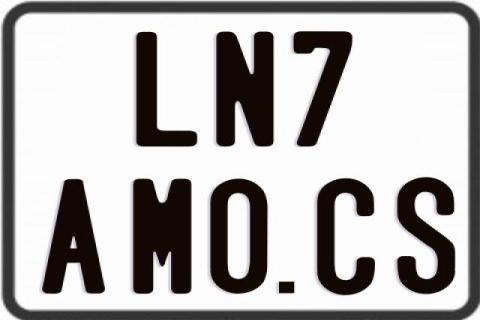0: (293, 29, 355, 149), (207, 178, 267, 298)
A: (41, 180, 108, 296)
C: (317, 176, 379, 298)
L: (135, 29, 200, 149)
M: (131, 176, 193, 295)
N: (215, 30, 274, 150)
S: (397, 176, 459, 298)
